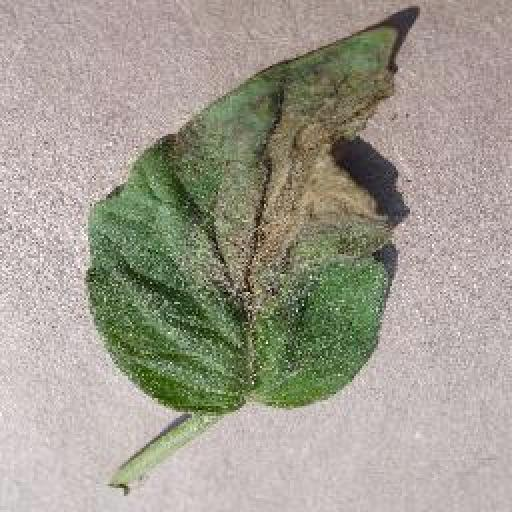disease_tomato: (86, 24, 408, 412)
